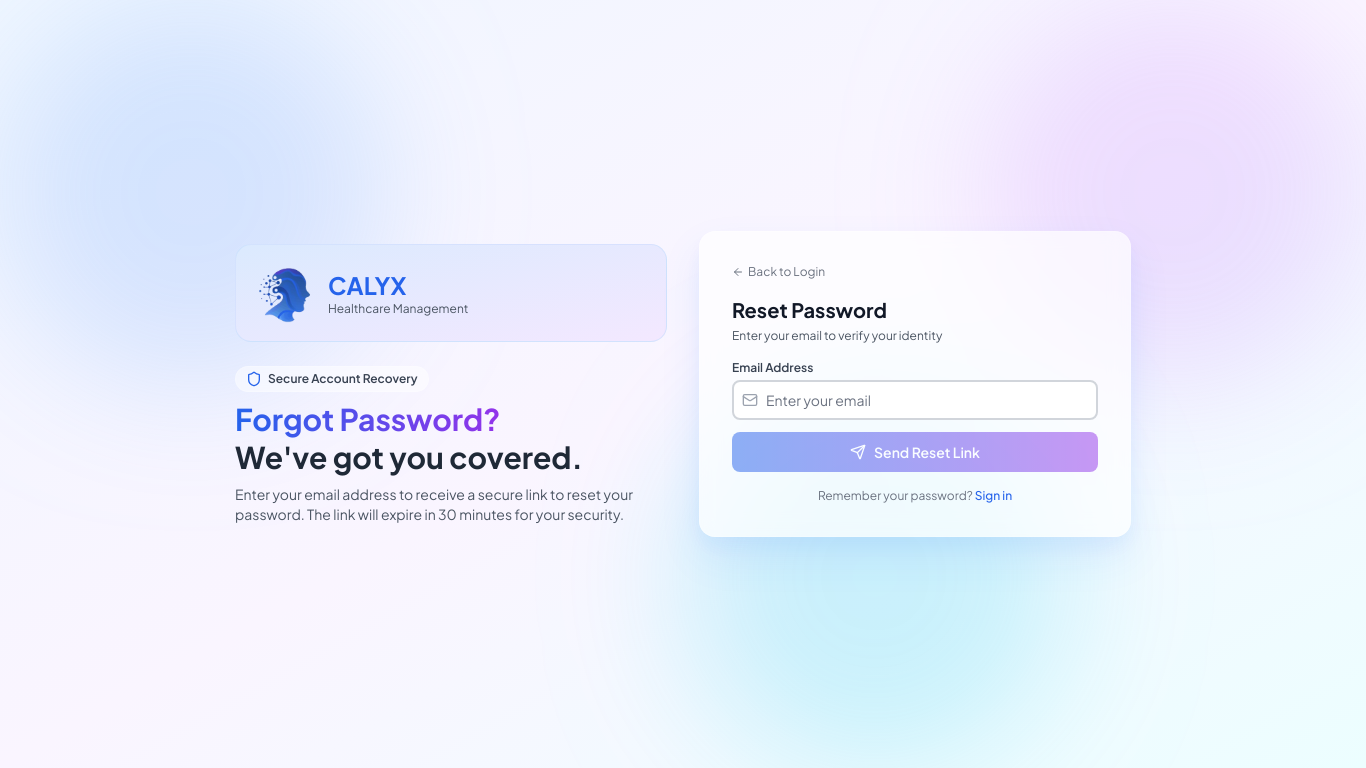
Test case: ForgotPassword Page › enables submit button when valid email is entered
This screenshot has width=1366, height=768.
Type "test@example.com" into the field with placeholder "Enter your email" at (915, 400), box [732, 380, 1098, 420]
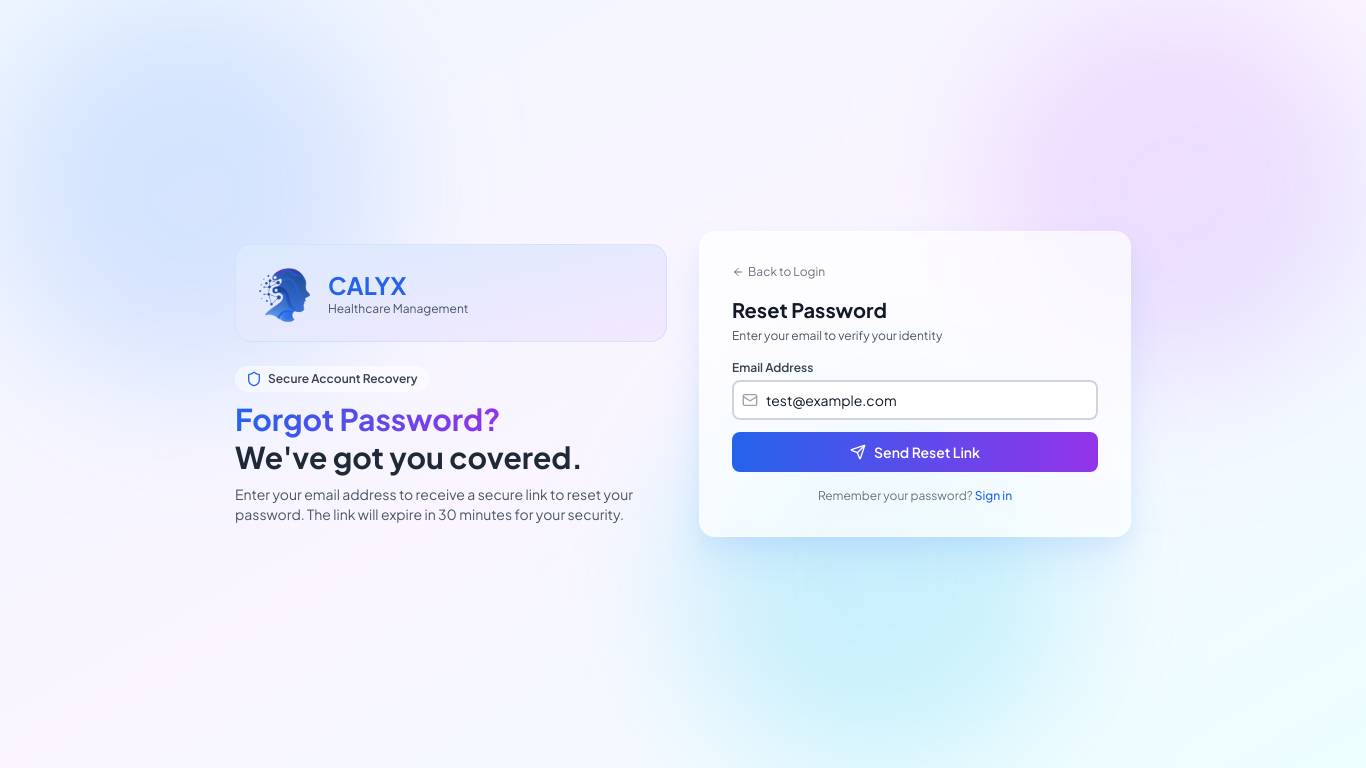
expect the button "Send Reset Link" is enabled: met, box [732, 432, 1098, 472]
